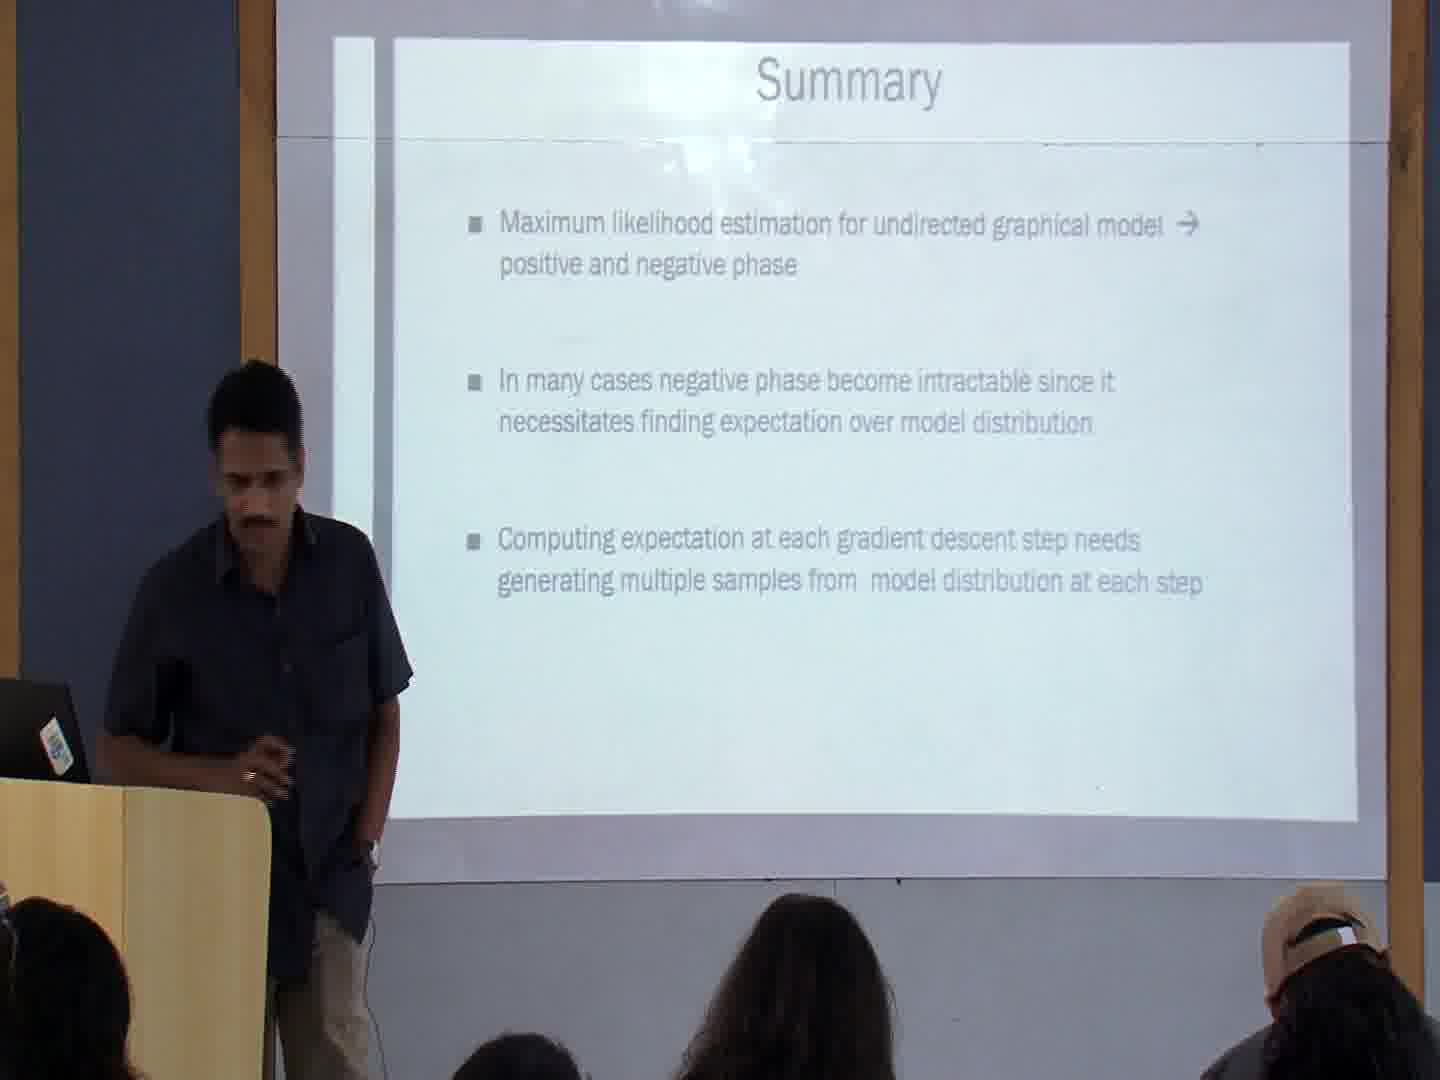slide: (333, 35, 1356, 820)
